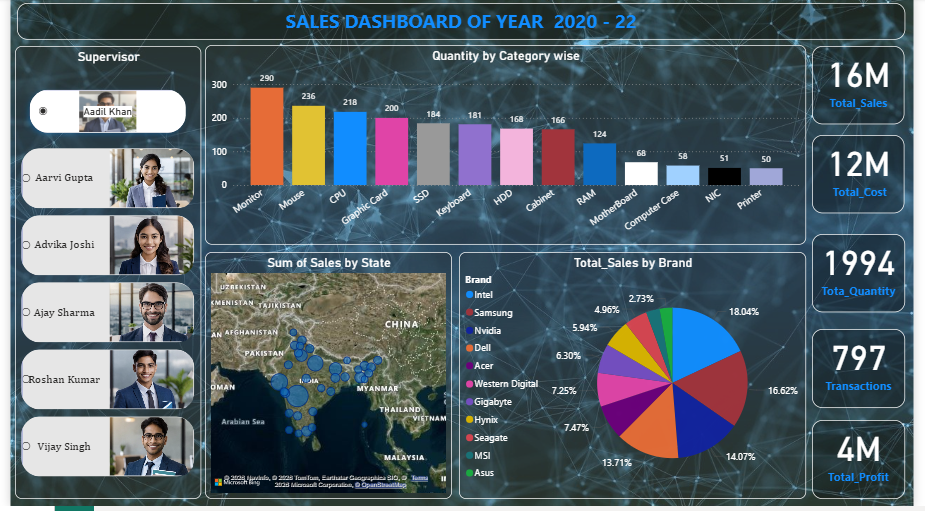

This screenshot's page, from the dashboard's own definition file:
{"tool":"powerbi","page":{"name":"Page 1","canvas":[1280,720],"ordinal":0},"visuals":[{"type":"textbox","box":[9.9,7.1,1258.6,52.4],"z":0},{"type":"card","fields":{"Values":["Sum(Sales_Data.Total_Sales)"]},"box":[1137.1,68.6,131.4,111.4],"z":1000},{"type":"card","fields":{"Values":["Sum(Sales_Data.Total_Cost)"]},"box":[1137.1,194.3,131.4,111.4],"z":2000},{"type":"card","fields":{"Values":["Sum(Sales_Data.Quantity)"]},"box":[1136.7,334.5,131.8,110.6],"z":3000},{"type":"card","fields":{"Values":["CountNonNull(Sales_Data.Order_Number)"]},"box":[1136.7,469.1,131.8,112],"z":4000},{"type":"card","fields":{"Values":["Sales_Data.Total_Profit"]},"box":[1136.7,598.1,131.8,112],"z":5000},{"type":"clusteredColumnChart","title":"Quantity by Category wise","fields":{"Category":["Sales_Data.Category"],"Y":["Sum(Sales_Data.Quantity)"]},"box":[276.4,66.6,851.8,283.5],"z":6000},{"type":"pieChart","fields":{"Y":["Sum(Sales_Data.Total_Sales)"],"Category":["Sales_Data.Brand"]},"box":[636.4,360,491.8,350.1],"z":7000},{"type":"map","fields":{"Category":["State_list.State"],"Size":["Sum(Sales_Data.Sales)"]},"box":[276.4,360,350.1,350.1],"z":8000},{"type":"listSlicer","fields":{"Values":["Supervisor.Supervisor"]},"box":[7.1,68,263.6,642],"z":9000}]}

Visuals, with their boxes in screenshot pixels (x1, y1, x2, y2), scaled from the page's 1280x720 canvas onto the 925x511 screenshot:
textbox: <region>7, 5, 917, 42</region>
card - Sum(Sales_Data.Total_Sales): <region>822, 49, 917, 128</region>
card - Sum(Sales_Data.Total_Cost): <region>822, 138, 917, 217</region>
card - Sum(Sales_Data.Quantity): <region>821, 237, 917, 316</region>
card - CountNonNull(Sales_Data.Order_Number): <region>821, 333, 917, 412</region>
card - Sales_Data.Total_Profit: <region>821, 424, 917, 504</region>
"Quantity by Category wise" clusteredColumnChart: <region>200, 47, 815, 248</region>
pieChart - Sum(Sales_Data.Total_Sales) x Sales_Data.Brand: <region>460, 256, 815, 504</region>
map - State_list.State x Sum(Sales_Data.Sales): <region>200, 256, 453, 504</region>
listSlicer - Supervisor.Supervisor: <region>5, 48, 196, 504</region>
